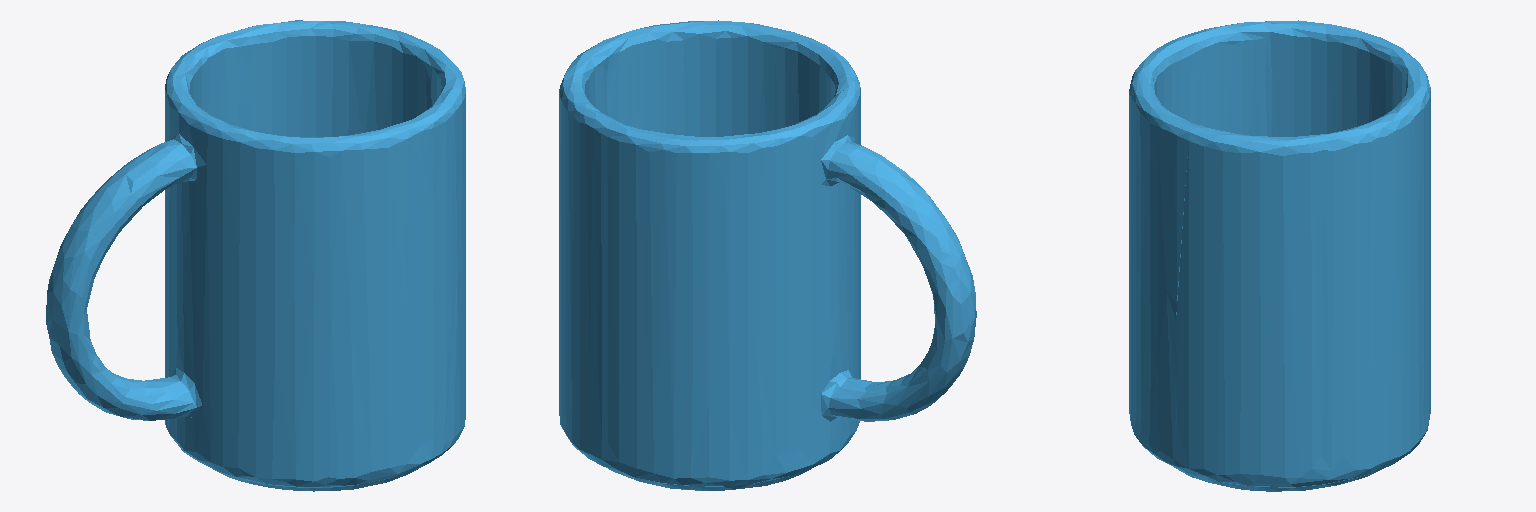
The robot description file, URDF, robot "Mug_ba10400c108e5c3f54e1b6f41fdd78a_S":
<?xml version="1.0"?>
<robot name="Mug_ba10400c108e5c3f54e1b6f41fdd78a_S">
  <link name="base"/>
  <link name="link_0">
  <visual>
    <origin xyz="0.0 0.0 0.0"/>
    <geometry>
      <mesh filename="Mug_ba10400c108e5c3f54e1b6f41fdd78a_S.obj" scale="1.0 1.0 1.0"/>
    </geometry>
  </visual>
  <collision>
    <origin xyz="0.0 0.0 0.0"/>
    <geometry>
      <mesh filename="collision.obj" scale="1.0 1.0 1.0"/>
    </geometry>
  </collision>
  </link>
  <joint name="joint_0" type="fixed">
    <origin rpy="0 0 0" xyz="0 0 0"/>
    <child link="link_0"/>
    <parent link="base"/>
  </joint>
</robot>

--- Facts derived from the render (not from the file) ---
3 views of the same robot in one strip: view 1: azimuth 30°, elevation 25°; view 2: azimuth 150°, elevation 25°; view 3: azimuth 270°, elevation 25° (orthographic).
Robot: Mug_ba10400c108e5c3f54e1b6f41fdd78a_S — 2 links, 1 joints (1 fixed); root link base; default pose: all joints at 0.
Links seen in each view (by area): view 1: link_0; view 2: link_0; view 3: link_0.
Link boxes in pixels (x1,y1,x2,y2): link_0: [46, 20, 465, 491]; link_0: [559, 20, 976, 490]; link_0: [1129, 20, 1430, 491].
Size in the robot's own frame: 0.0891 by 0.0589 by 0.0775 metres.
1 mesh visuals loaded from 1 distinct referenced files (1 OBJ).